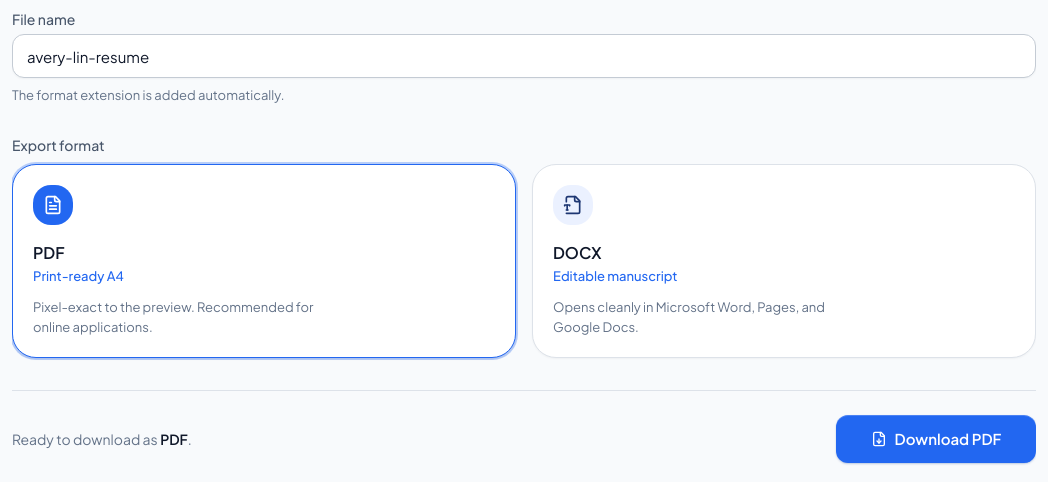
Test: ExportForm › switches the chosen format
Click the radio button labelled "DOCX".
click(573, 204)  # box [532,164,1036,358]
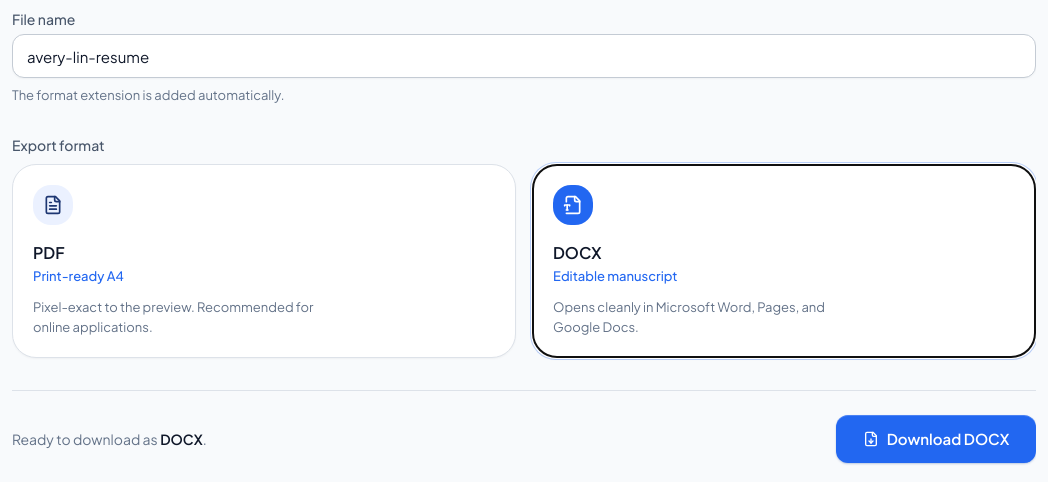
Expected: the button "Download DOCX" is shown, [836,415,1036,463]
